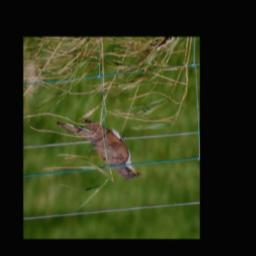Cuckoo: (54, 112, 142, 183)
